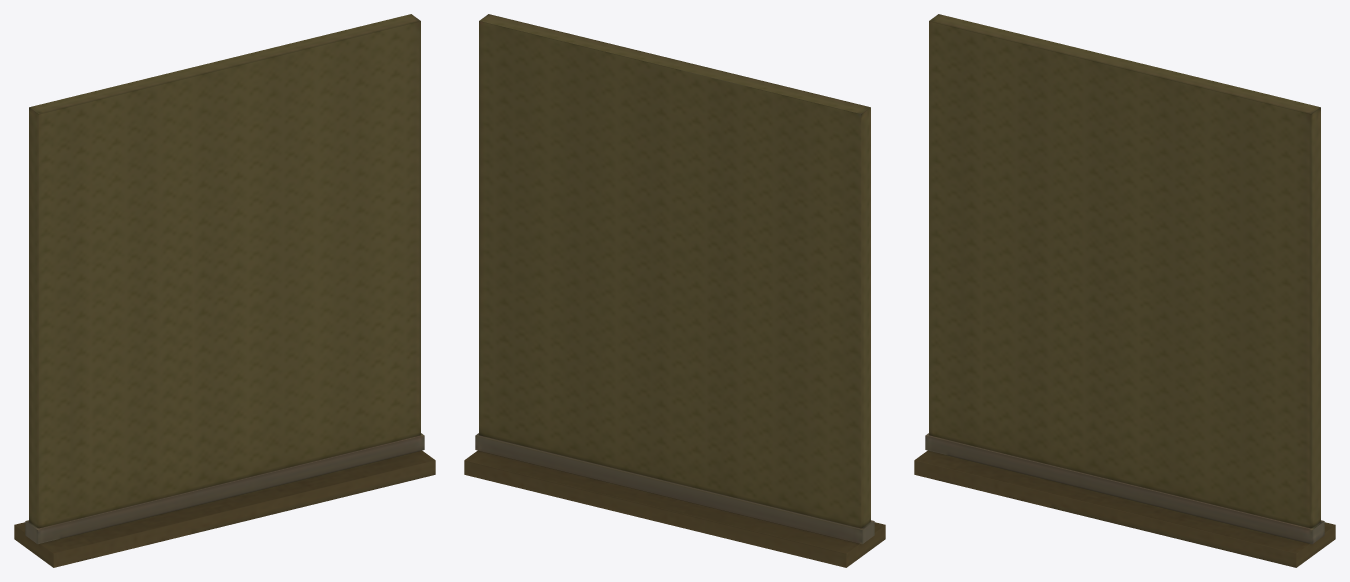
3 views of the same model, side by side, from view 1: azimuth 30°, elevation 25°; view 2: azimuth 150°, elevation 25°; view 3: azimuth 330°, elevation 25° (orthographic).
Visible parts, largest first — view 1: Walls, Floor; view 2: Walls, Floor; view 3: Walls, Floor.
Part boxes in pixels (box(x1,y1,x2,y2)): Walls: box(25, 14, 424, 544); Floor: box(14, 450, 435, 567); Walls: box(475, 14, 874, 544); Floor: box(464, 450, 885, 567); Walls: box(925, 14, 1324, 544); Floor: box(914, 450, 1335, 567).
Size of what is drawn, in the model's own units: 2.84 by 3.1 by 0.5.
2 materials, 2 textured.
